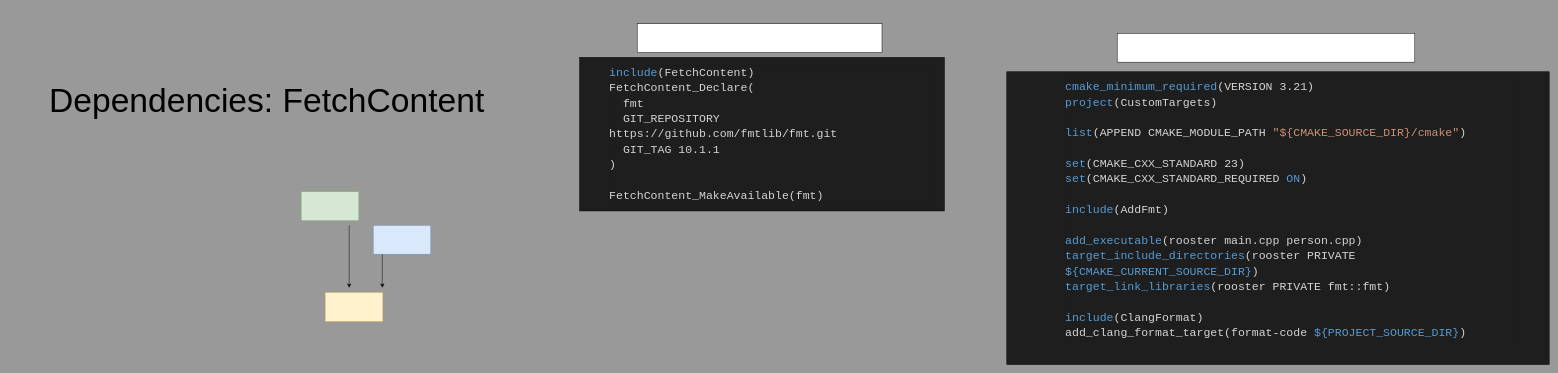
Some shapes in this 1558 by 373 pixel diagram are drawn without their labels. Here are the shapes that lost their labels. From the top down, the centre of each, then its label:
At (759,38): "Getting the dependencies".
At (1266,47): "Link against targets in the dependency".
